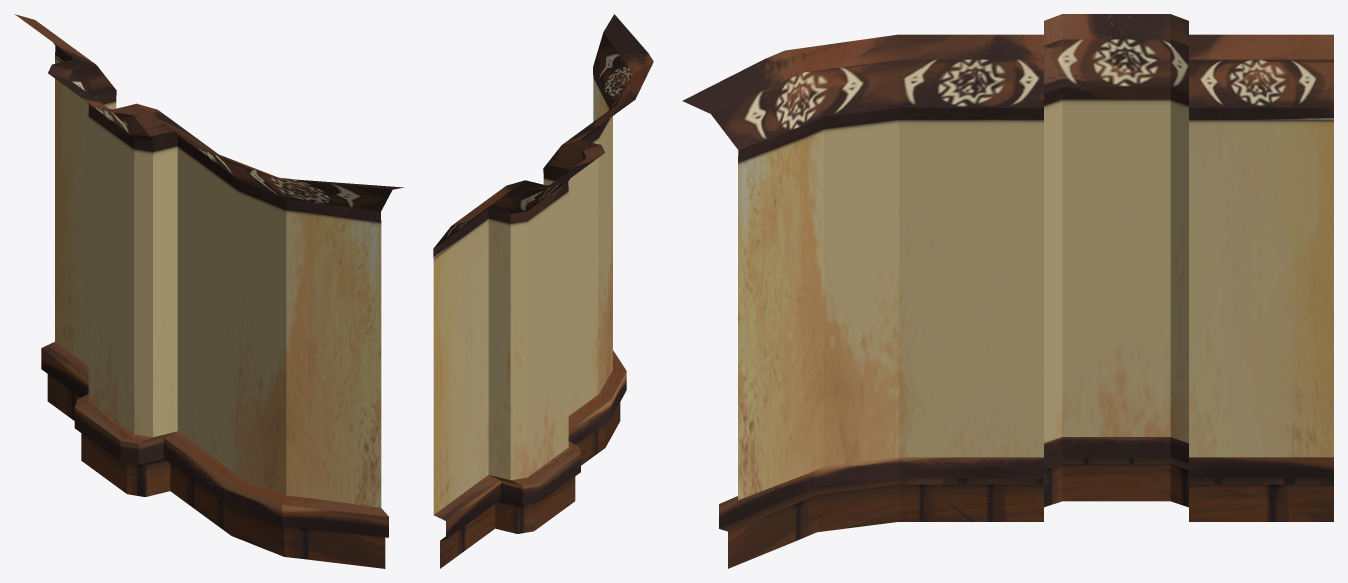
Rendered from стіна з поворотом назад.fbx.
3 renders of one model, left to right at view 1: azimuth 30°, elevation 25°; view 2: azimuth 150°, elevation 25°; view 3: azimuth 270°, elevation 25°, orthographic. The views are drawn at different scales.
Parts seen in each view (by area): view 1: трім.005; view 2: трім.005; view 3: трім.005.
Boxes of the visible parts, box(x1,y1,x2,y2) form: трім.005: box(15, 14, 403, 568); трім.005: box(433, 14, 653, 568); трім.005: box(682, 14, 1333, 568).
Size of the model in its own units: 110 by 277 by 349.
